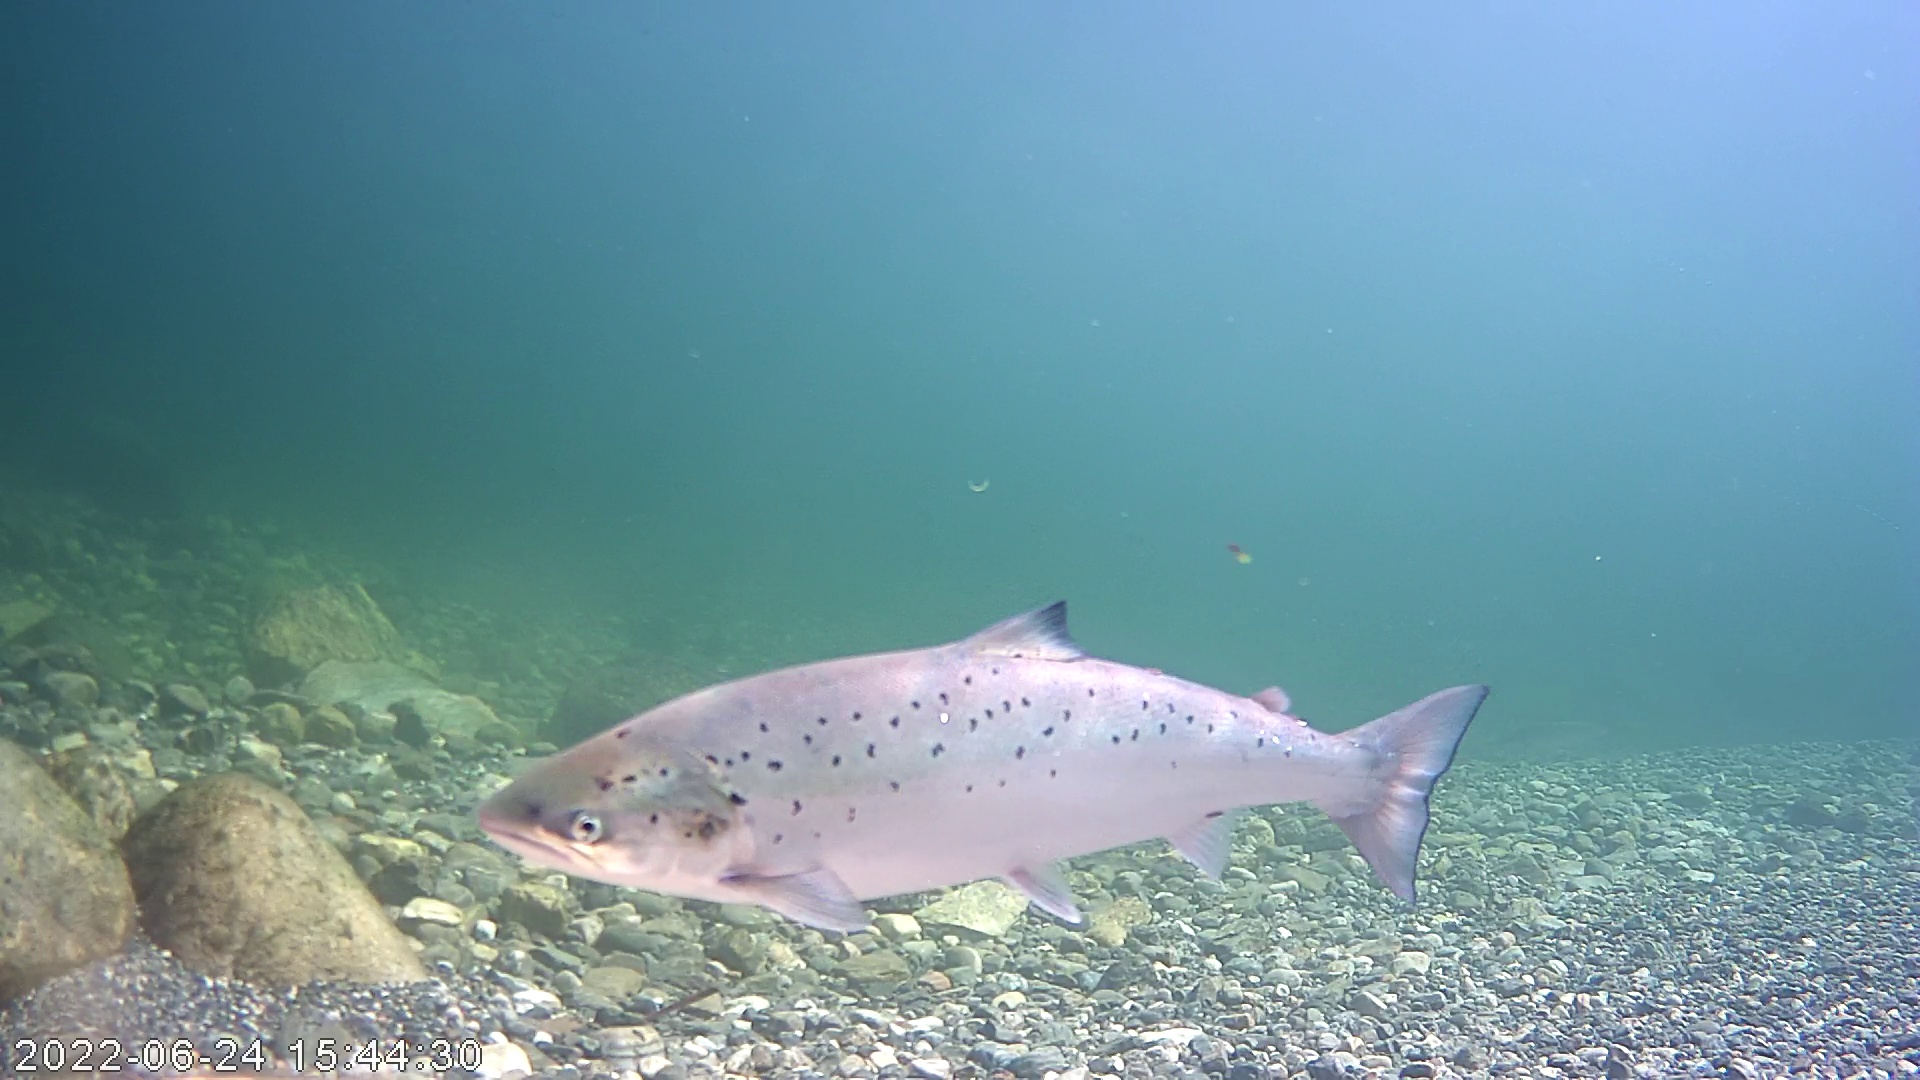salmon: (476, 597, 1489, 934)
